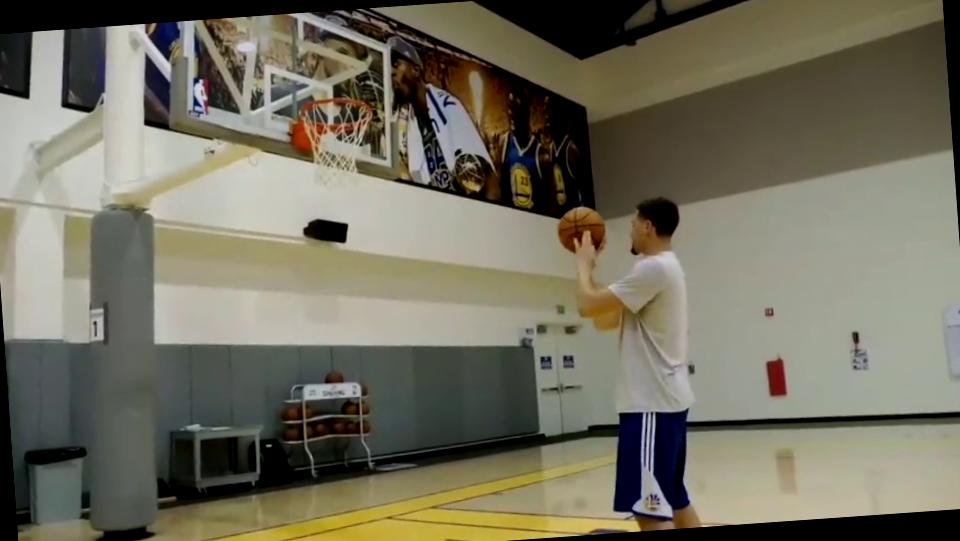hoop: (284, 92, 384, 140)
